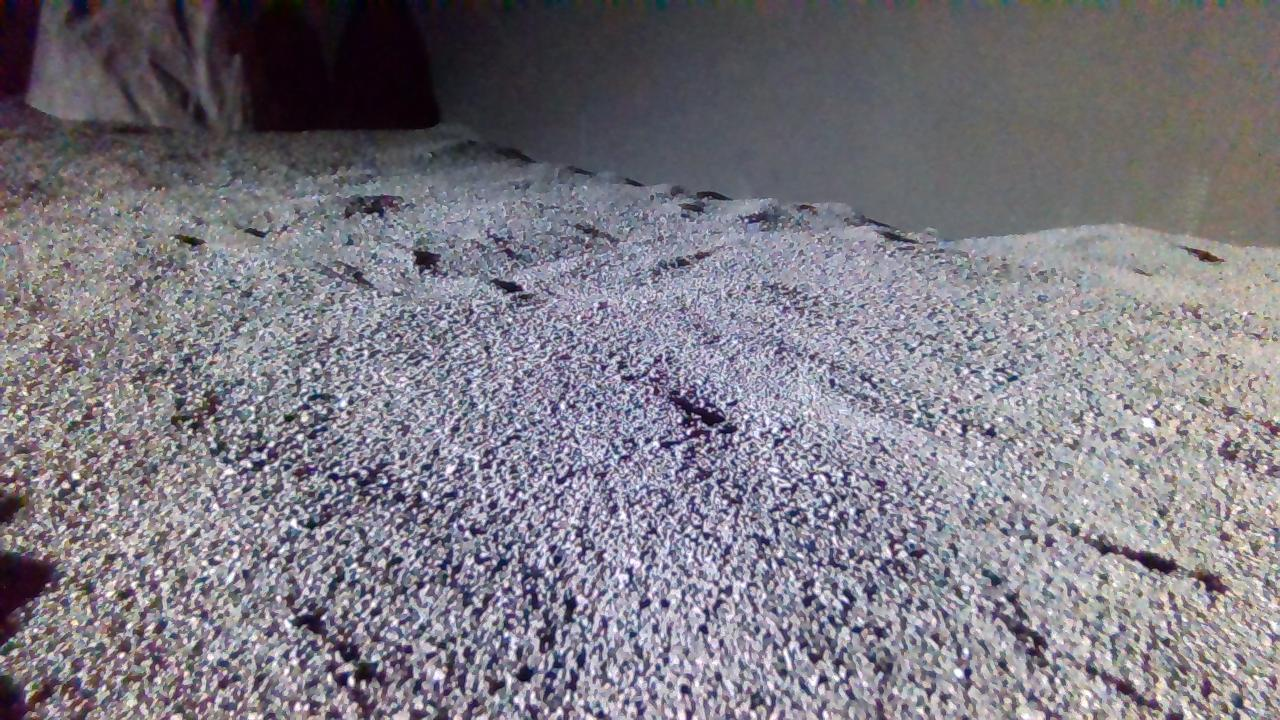rock: (25, 0, 245, 130)
